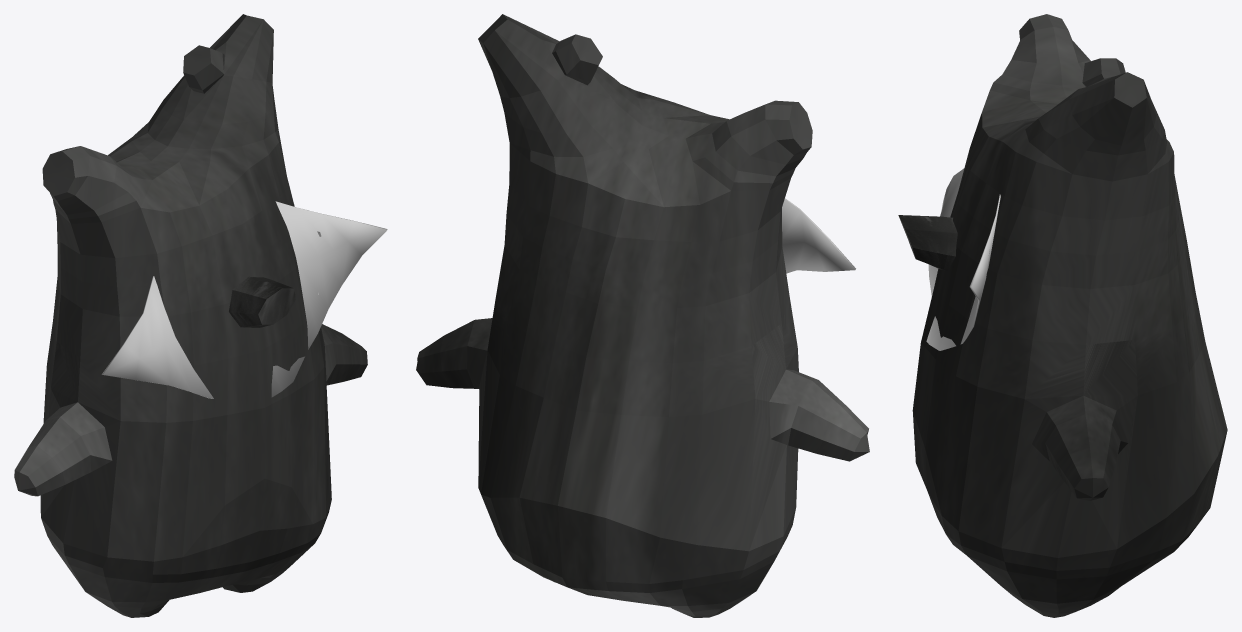
File: frame_0057.obj
The picture shows the model from 3 angles, left to right: view 1: azimuth 30°, elevation 25°; view 2: azimuth 150°, elevation 25°; view 3: azimuth 270°, elevation 25°; orthographic projection. The views are drawn at different scales.
Visible parts, largest first — view 1: korok, leaf, nose; view 2: korok, leaf; view 3: korok, nose, leaf.
Part boxes in pixels (x1,y1,x2,y2): korok: [14, 14, 367, 617]; leaf: [102, 201, 387, 398]; nose: [229, 276, 295, 327]; korok: [416, 14, 869, 617]; leaf: [782, 198, 855, 273]; korok: [912, 14, 1227, 617]; nose: [898, 215, 957, 270]; leaf: [926, 168, 1000, 350].
Size of the model in its own units: 1.7 by 2.29 by 1.22.
